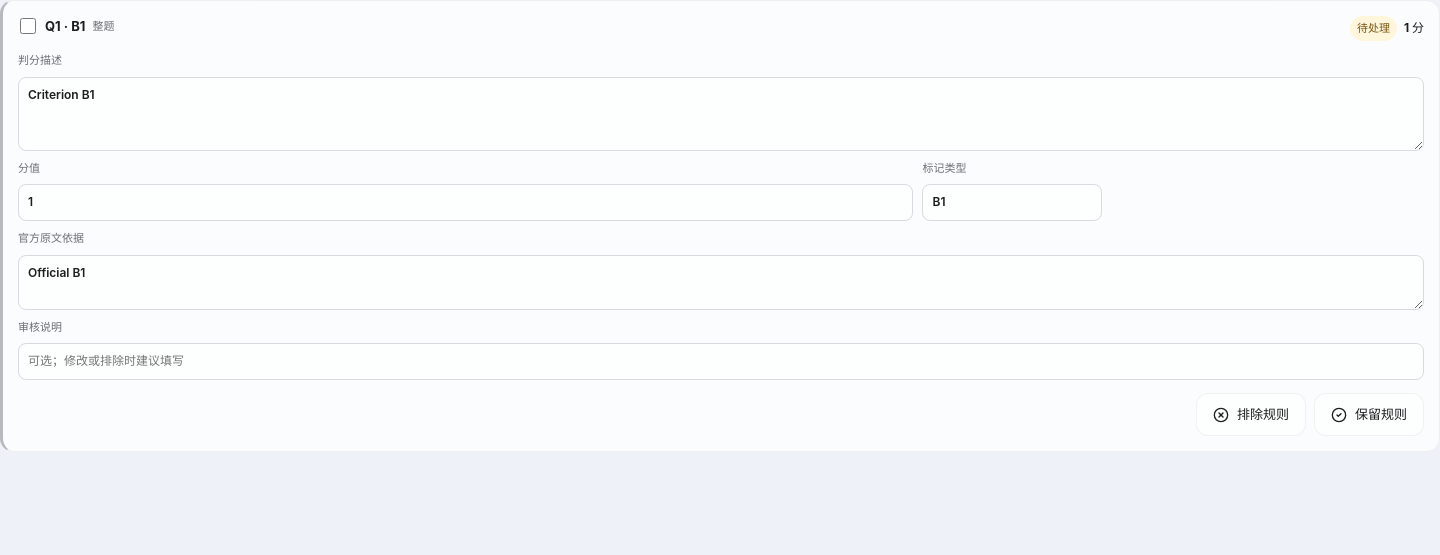
grading component final-review regressions › explains invalid criterion fields and associates each error with its control
Clear the text box labelled "判分描述" at (721, 114), box [18,77,1424,151]
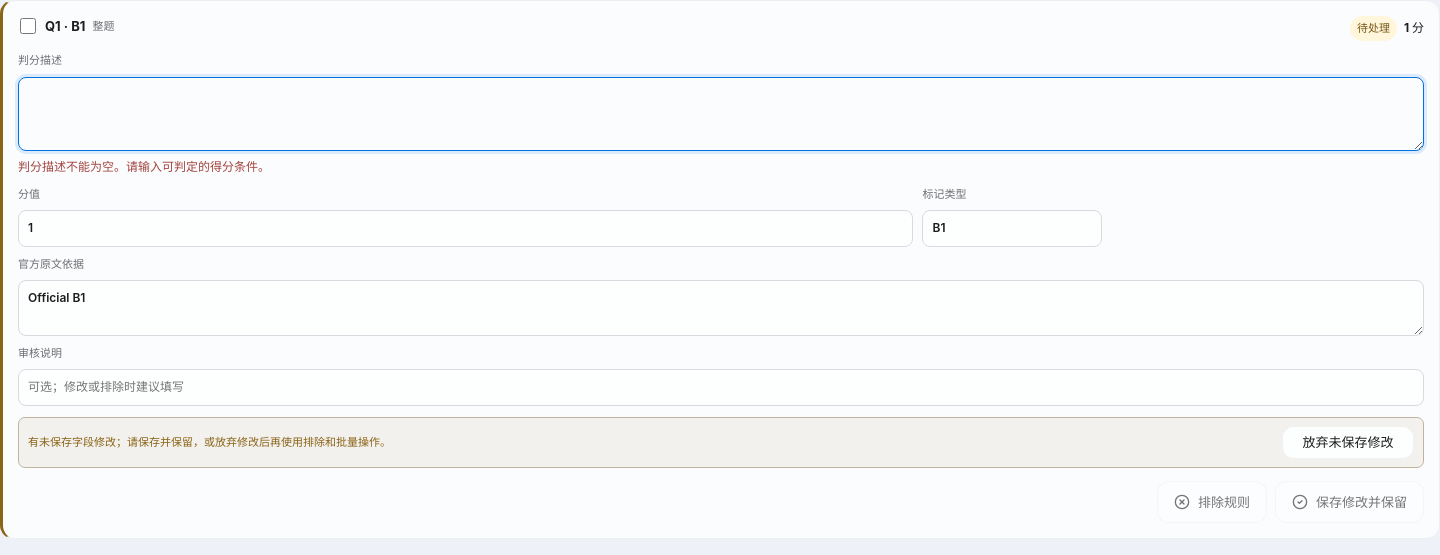
expect the button with aria-label "保存修改并保留 Q1 · B1" is disabled: met, box [1275,481,1424,523]
Type "Award for a correct method." into the text box labelled "判分描述" at (721, 114), box [18,77,1424,151]
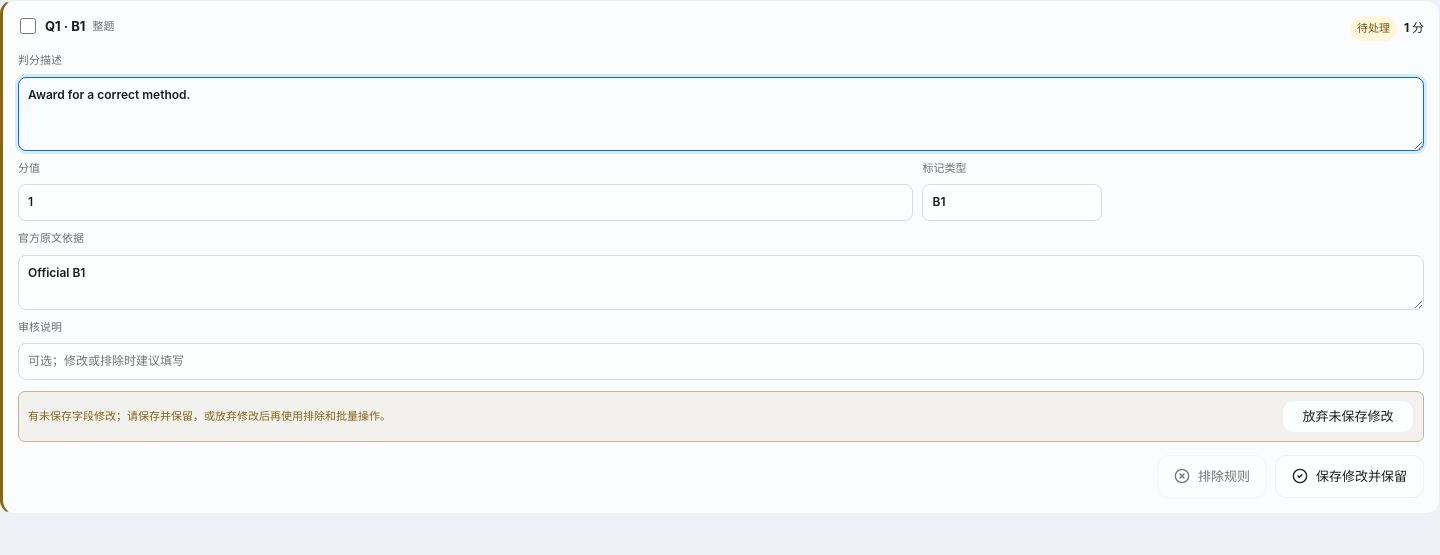
Clear the number field labelled "分值" at (466, 203), box [18,184,914,221]
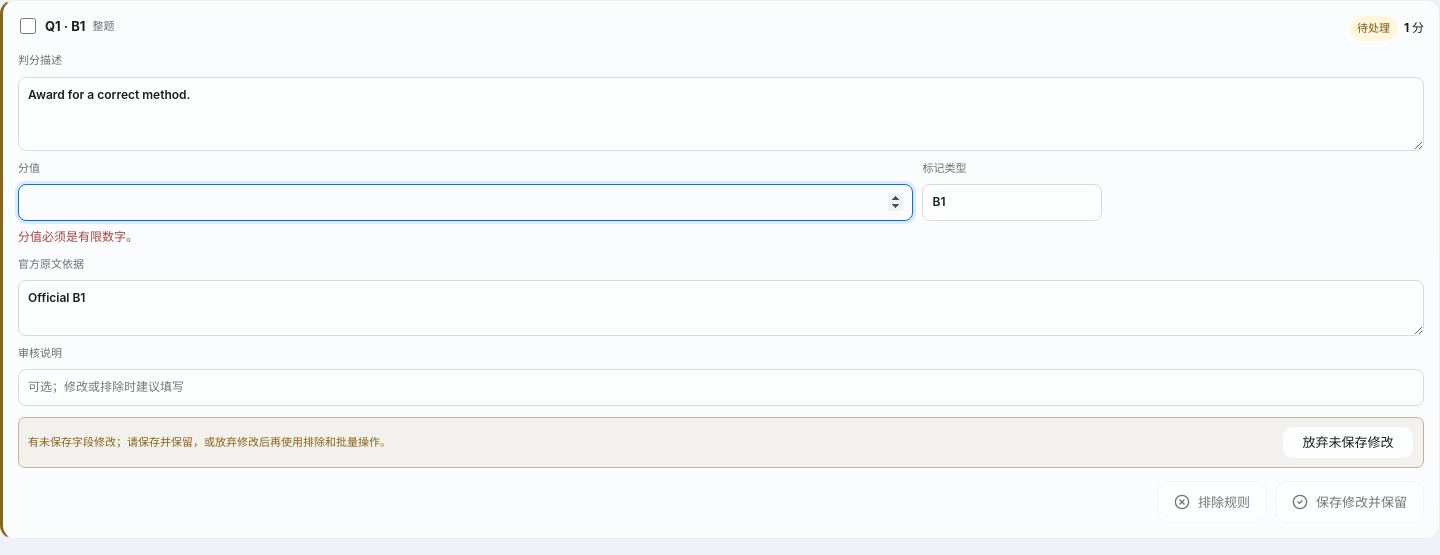
expect the button with aria-label "保存修改并保留 Q1 · B1" is disabled: met, box [1275,481,1424,523]
Type "0" into the number field labelled "分值" at (466, 203), box [18,184,914,221]
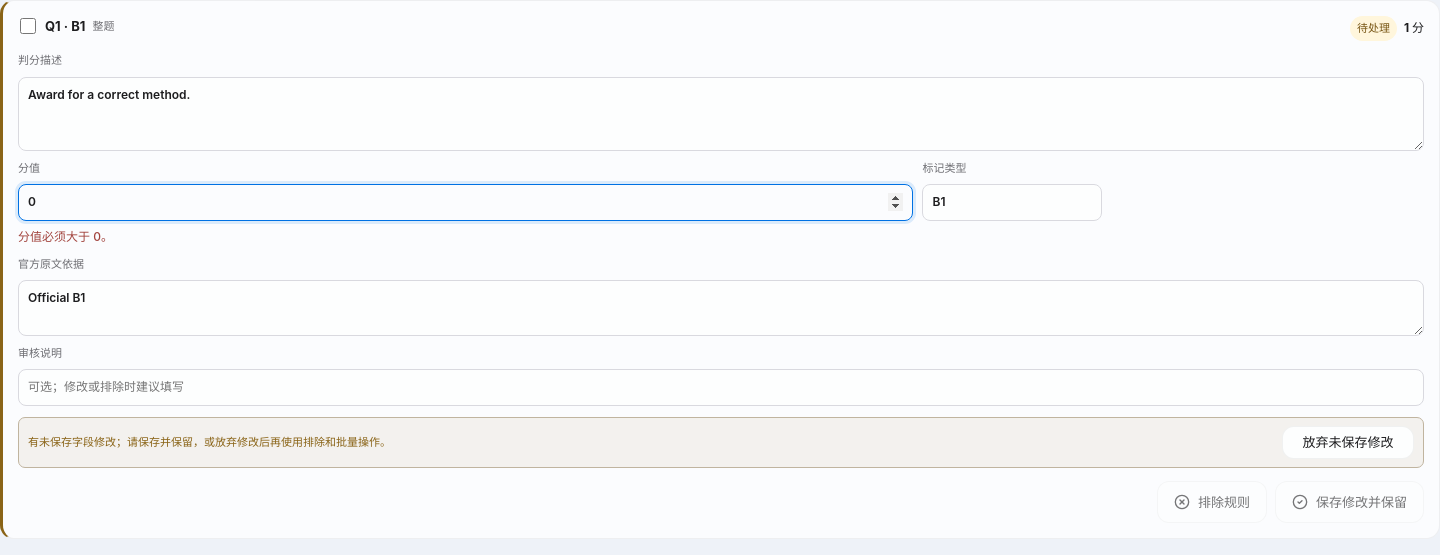
Replace the text in the number field labelled "分值" with "2" at (466, 203), box [18,184,914,221]
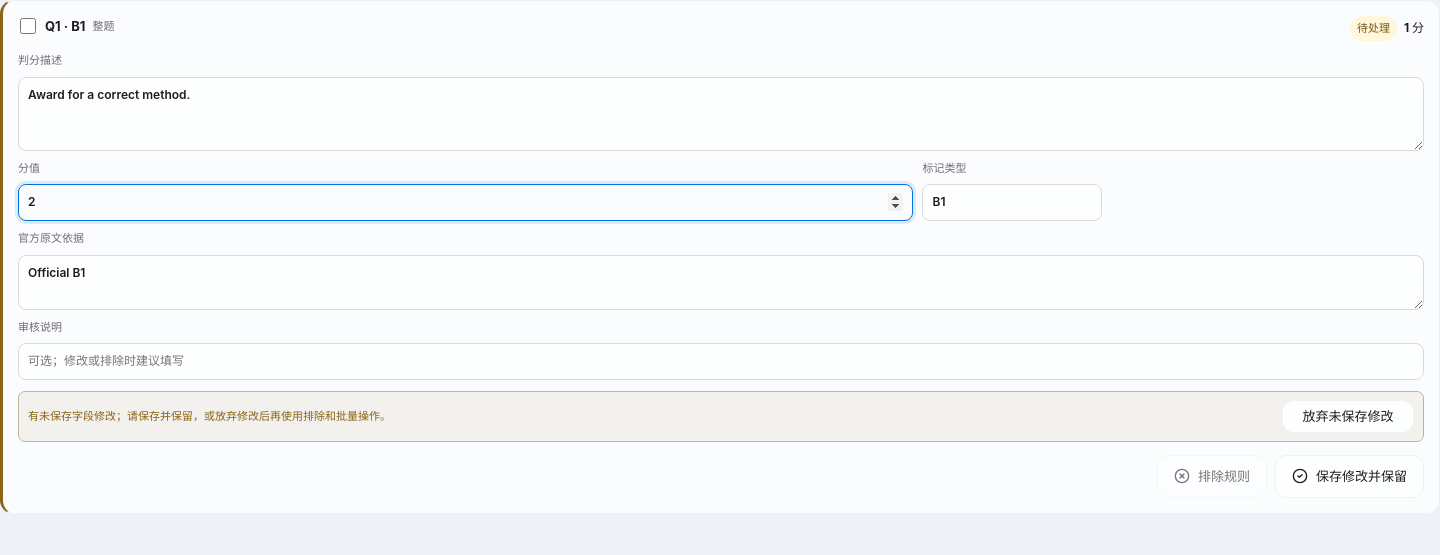
expect the button with aria-label "保存修改并保留 Q1 · B1" is enabled: met, box [1275,455,1424,498]
